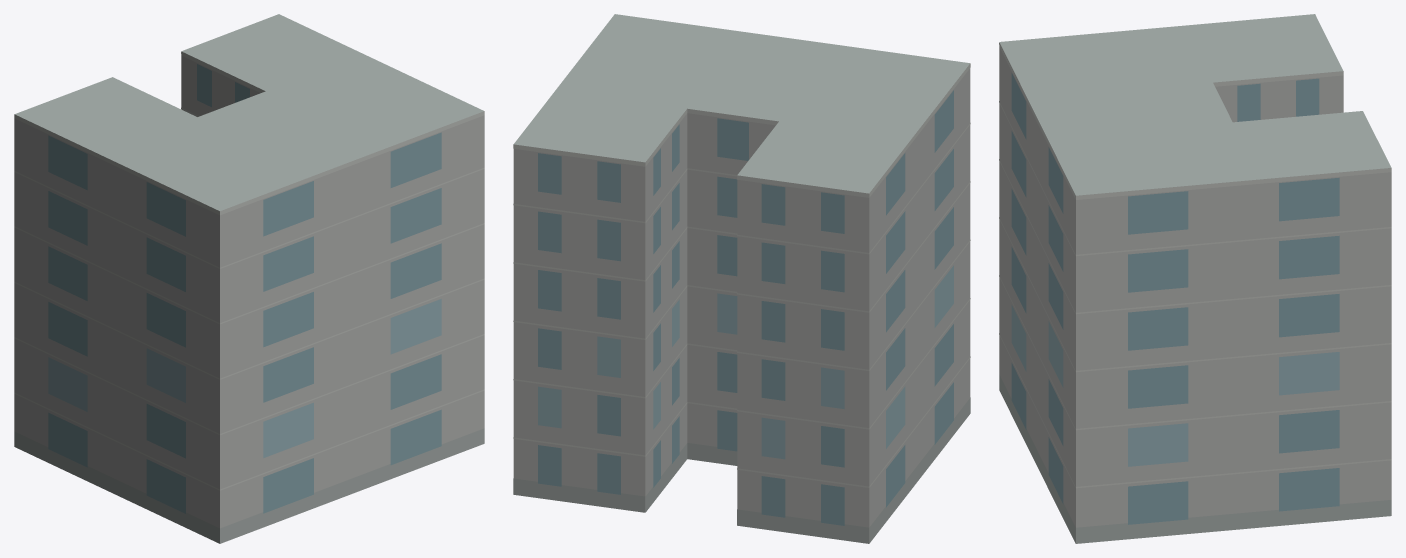
File: survey-upis-32637196.glb
3 views of the same model, side by side, from view 1: azimuth 30°, elevation 25°; view 2: azimuth 150°, elevation 25°; view 3: azimuth 270°, elevation 25° (orthographic). The views are drawn at different scales.
Parts seen in each view (by area): view 1: survey-upis-32637196.tmp; view 2: survey-upis-32637196.tmp; view 3: survey-upis-32637196.tmp.
Boxes of the visible parts, <box> form: survey-upis-32637196.tmp: <box>14,14,484,543</box>; survey-upis-32637196.tmp: <box>513,14,970,543</box>; survey-upis-32637196.tmp: <box>999,14,1391,543</box>.
Size of the model in its own units: 21.85 by 19.5 by 19.94.
